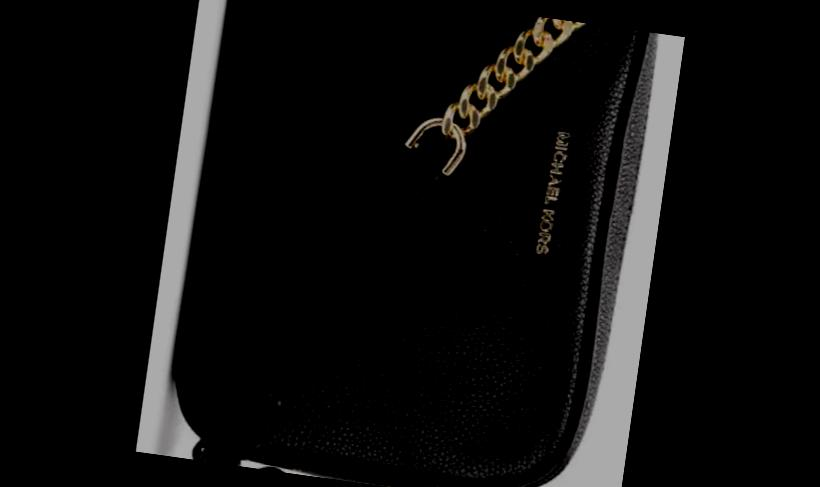MICHAEL-KORS: (534, 128, 572, 255)
